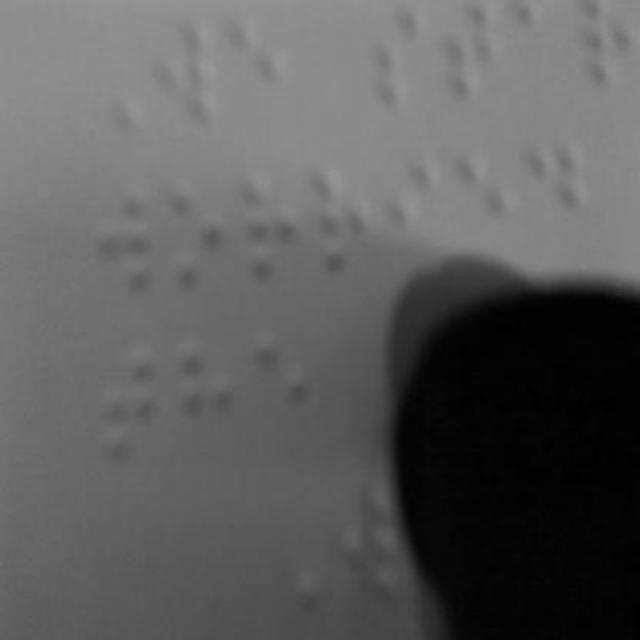braiile: (246, 322, 318, 463), (306, 161, 378, 293), (172, 329, 238, 473), (102, 337, 166, 481), (158, 175, 230, 302), (92, 174, 158, 310), (234, 172, 302, 304), (454, 146, 518, 284), (148, 10, 218, 128), (384, 150, 448, 278), (228, 12, 290, 142), (364, 8, 431, 122)
